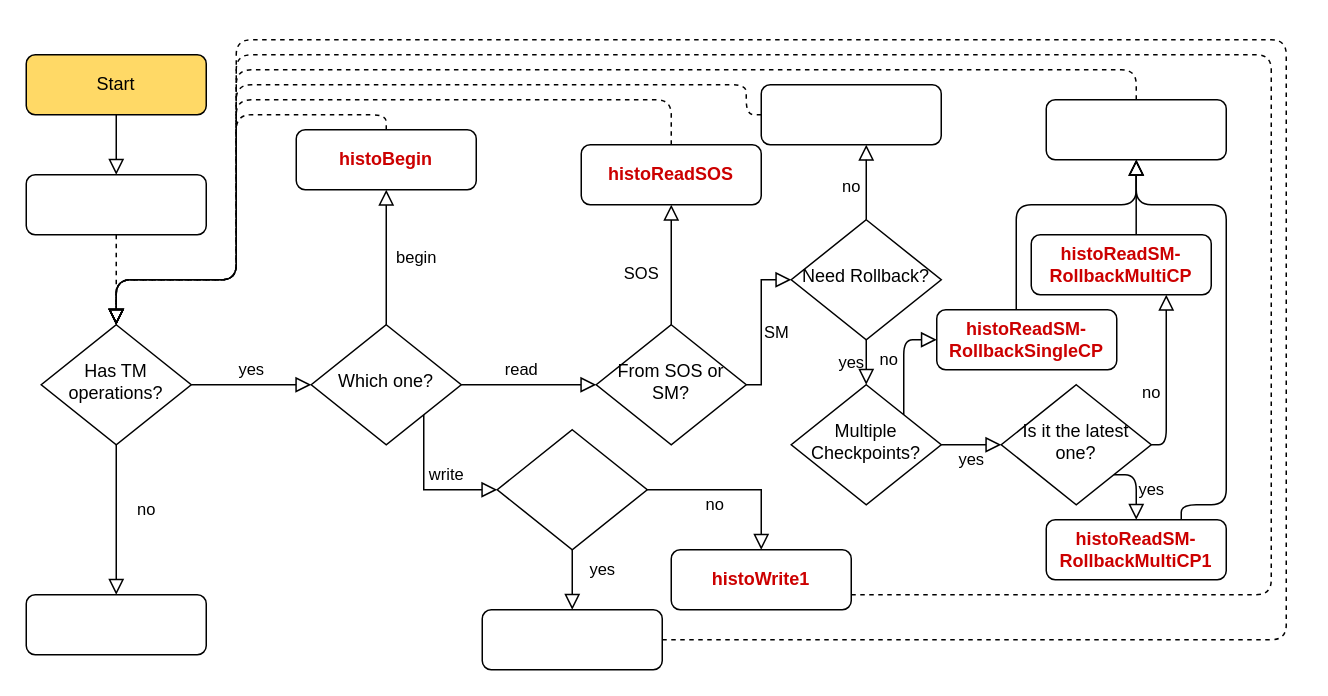
The diagram is 1328 pixels wide and 696 high, and some of its shapes have lost their labels. Here are the shapes that lost their labels. From the top down, the centre of each, then its label:
(x=850, y=114): histoReadSM
(x=1135, y=129): histoCommit1-RollbackDone
(x=115, y=204): histoBegin1
(x=571, y=489): Is variable on SOS?
(x=115, y=624): endProcess
(x=571, y=639): histoWrite
